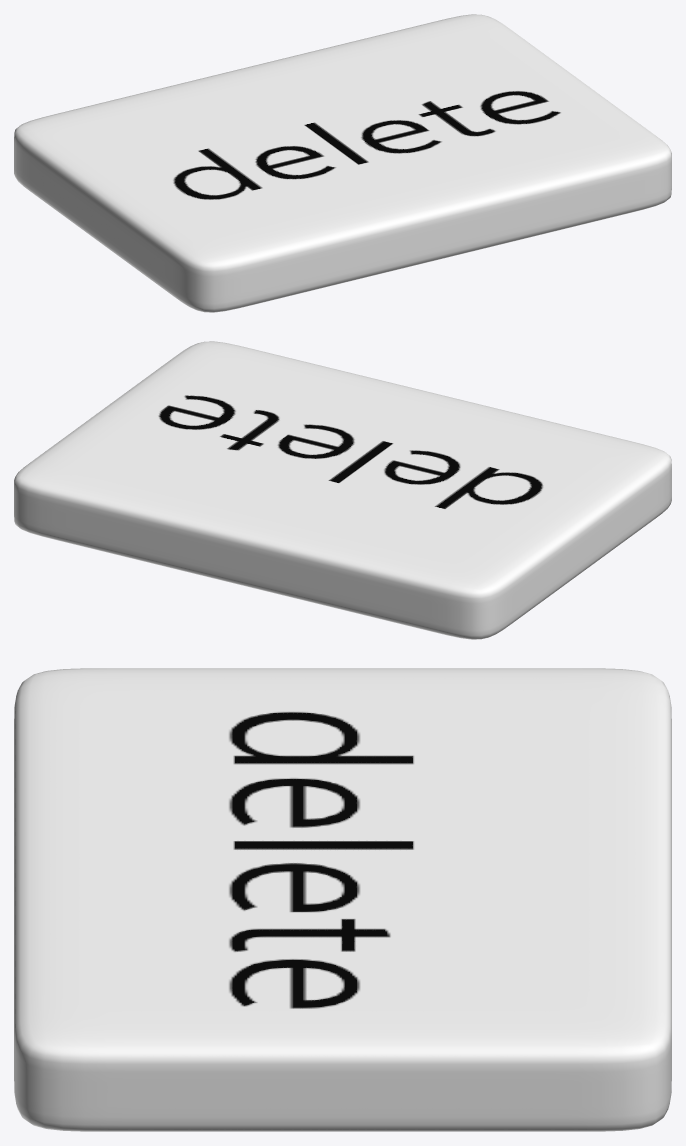
Rendered from 2_delete.fbx.
3 views of the same model, one above another, from view 1: azimuth 30°, elevation 25°; view 2: azimuth 150°, elevation 25°; view 3: azimuth 270°, elevation 25° (orthographic). The views are drawn at different scales.
Parts seen in each view (by area): view 1: 立方体; view 2: 立方体; view 3: 立方体.
Part boxes in pixels (left/top/right/bottom): 立方体: left=14, top=14, right=671, bottom=312; 立方体: left=14, top=341, right=671, bottom=639; 立方体: left=14, top=668, right=671, bottom=1131.
Size of the model in its own units: 280 by 30 by 200.
1 material, 1 textured.
